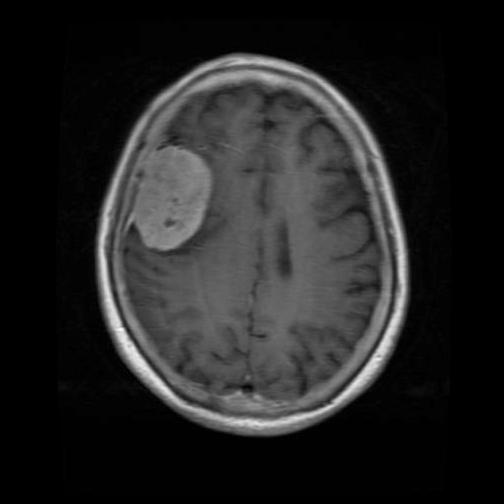Tumour-Meningioma: (132, 135, 231, 276)
